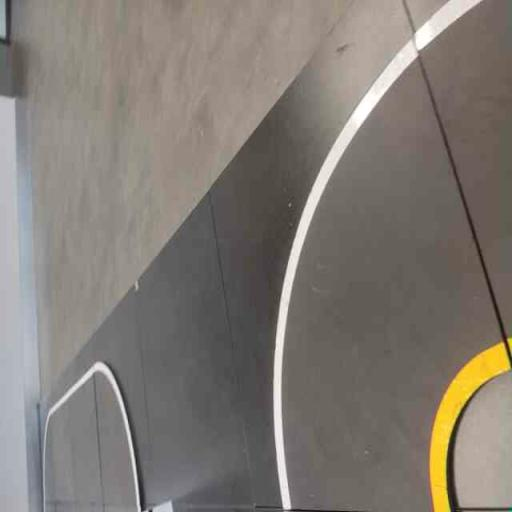left: (243, 25, 511, 511)
